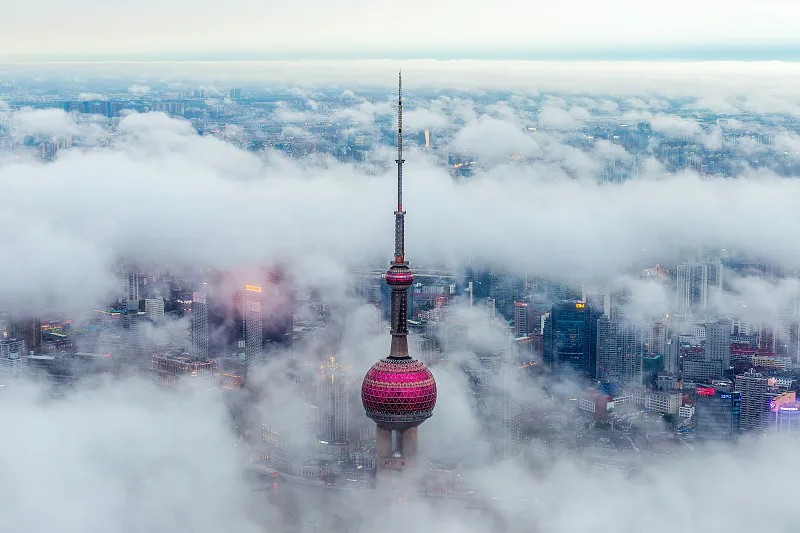Oriental: (360, 72, 437, 476)
